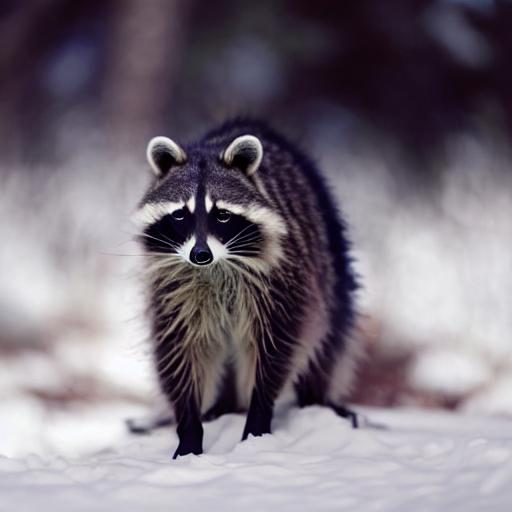raccoon: (117, 108, 369, 405)
